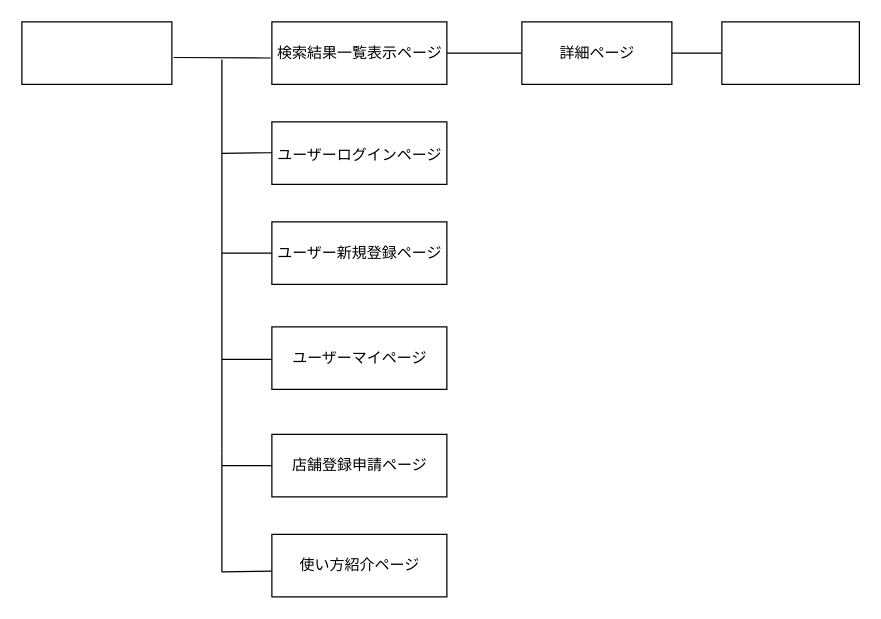
This 881x619 diagram has some shape labels left out. The shapes that lost their labels are listed below. From the top down, each one's centre as x and y in pixels, then its label:
At (96,52): "トップページ".
At (790,52): "編集ページ".
